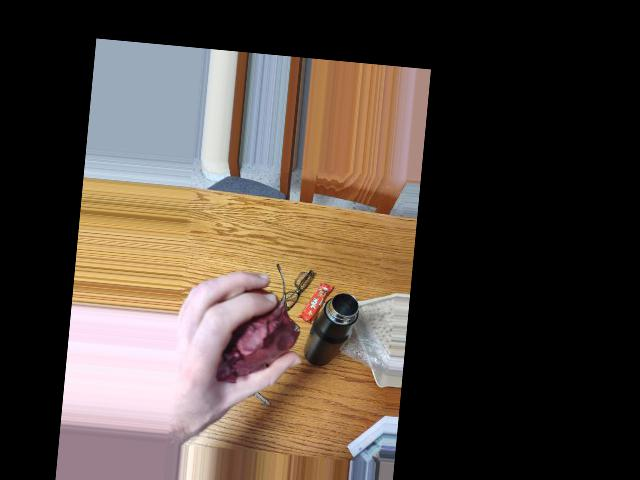onion: (213, 292, 293, 388)
